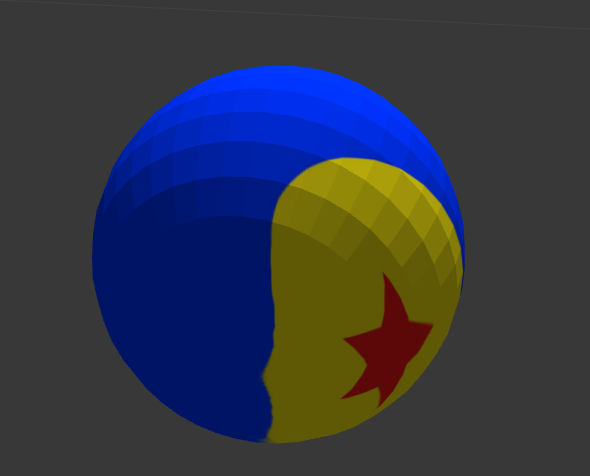toy story ball: (94, 67, 465, 442)
